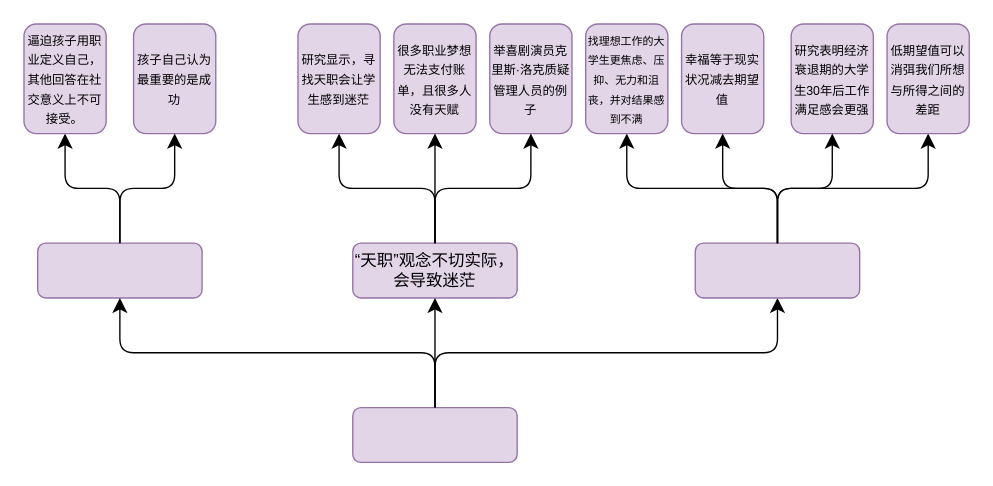
Image size: 993x486. Some labels were removed from this diagram. The box of each missing label's shape, as (x1, y1, x2, y2) in pixels:
用职业定义自我会给孩子带来压力: (36, 242, 202, 298)
职业现实与童年期望不匹配，导致失望: (694, 242, 860, 298)
问孩子长大后想做什么是对他们的一种伤害: (351, 406, 517, 462)
